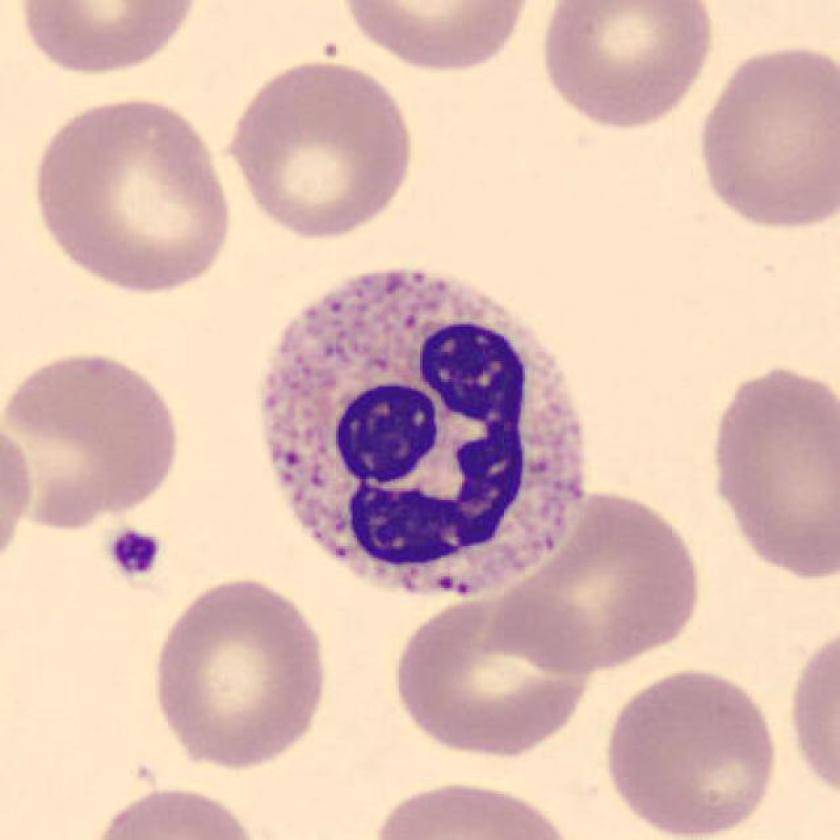neutrophil: (263, 269, 583, 598)
